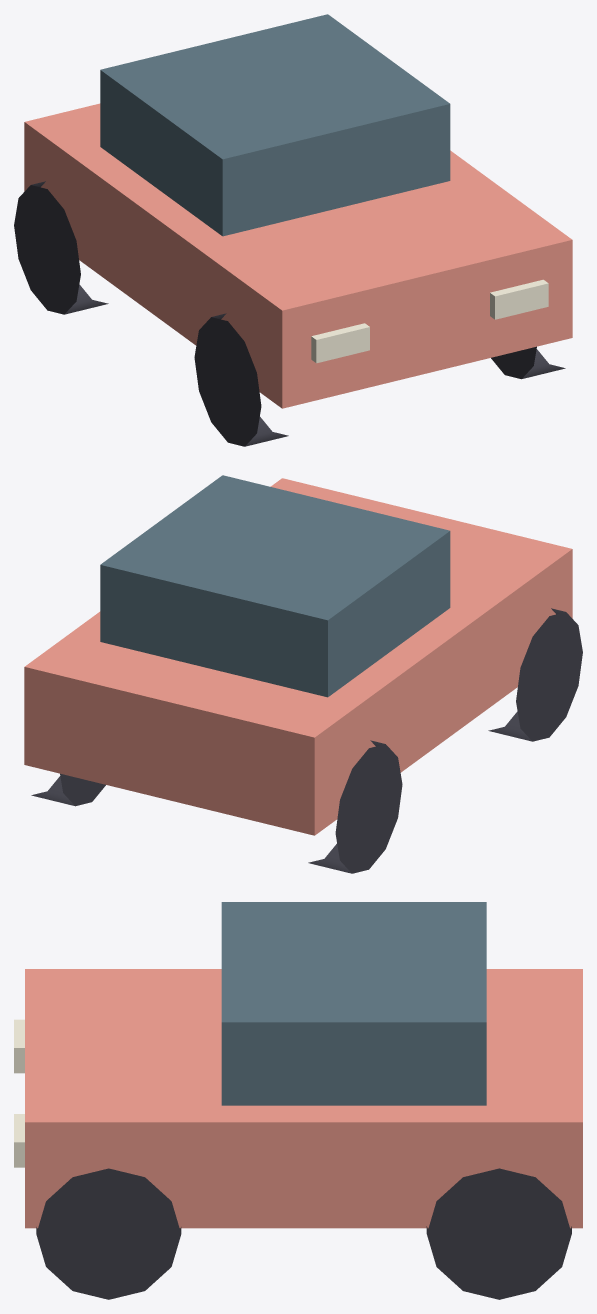
The model's file is car.glb.
3 views of the same model, one above another, from view 1: azimuth 30°, elevation 25°; view 2: azimuth 150°, elevation 25°; view 3: azimuth 270°, elevation 25° (orthographic). The views are drawn at different scales.
Parts seen in each view (by area): view 1: Body, Cabin, wheel_rear_left, wheel_front_left, Headlight_L, Headlight_R, wheel_front_right; view 2: Body, Cabin, wheel_front_left, wheel_rear_left, wheel_rear_right; view 3: Body, Cabin, wheel_rear_right, wheel_front_right, Headlight_L, Headlight_R.
Boxes of the visible parts, left/top/right/bottom form: Body: left=24, top=103, right=572, bottom=408; Cabin: left=100, top=14, right=450, bottom=236; wheel_rear_left: left=14, top=181, right=108, bottom=314; wheel_front_left: left=194, top=313, right=288, bottom=446; Headlight_L: left=311, top=323, right=369, bottom=363; Headlight_R: left=490, top=279, right=548, bottom=319; wheel_front_right: left=491, top=346, right=565, bottom=379; Body: left=24, top=478, right=572, bottom=835; Cabin: left=100, top=475, right=450, bottom=697; wheel_front_left: left=488, top=608, right=582, bottom=741; wheel_rear_left: left=308, top=740, right=402, bottom=873; wheel_rear_right: left=31, top=773, right=105, bottom=806; Body: left=25, top=969, right=582, bottom=1228; Cabin: left=221, top=902, right=486, bottom=1105; wheel_rear_right: left=426, top=1168, right=571, bottom=1299; wheel_front_right: left=36, top=1168, right=181, bottom=1299; Headlight_L: left=14, top=1019, right=24, bottom=1073; Headlight_R: left=14, top=1114, right=24, bottom=1167.
Bounding box in the file's own units: 1.44 × 1 × 2.04.
